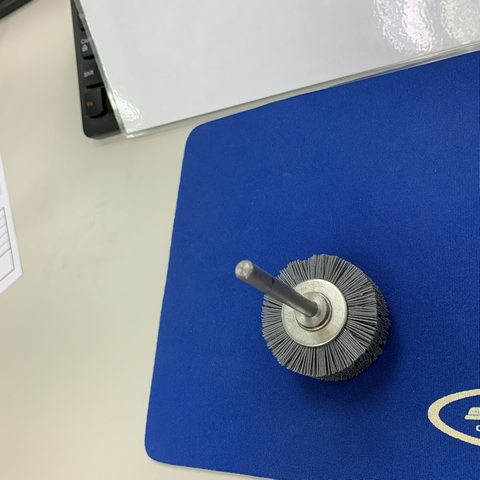Wheel Brush: (228, 229, 400, 391), (238, 257, 396, 388), (256, 248, 392, 386)
